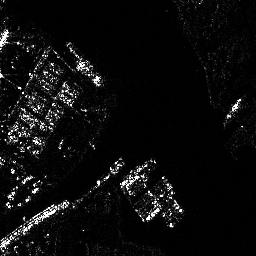ship: (65, 42, 103, 87)
